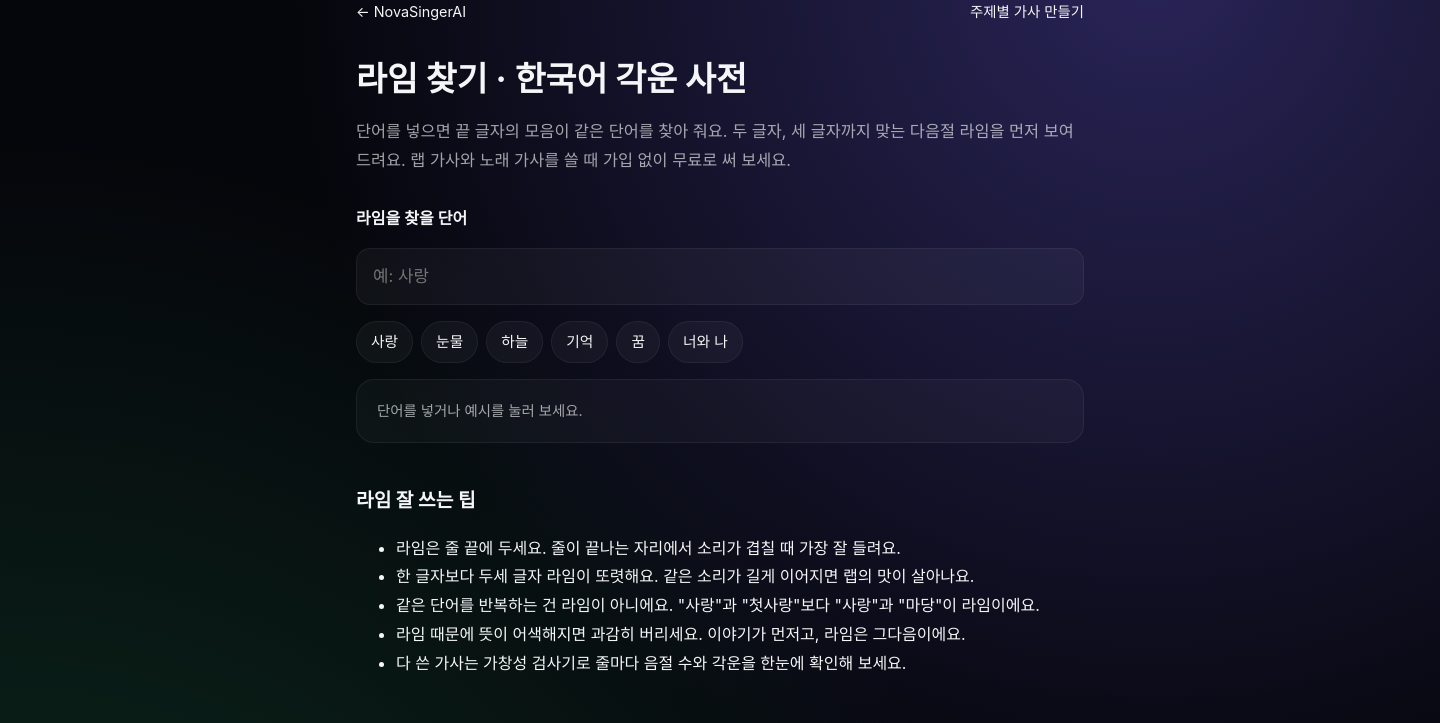
it: rhyme finder page › finds rhymes, collects picks and hands them to the trial chat
The image size is (1440, 723).
Type "사랑" into the field labelled "라임을 찾을 단어". click: (720, 276)
box: [356,248,1084,305]
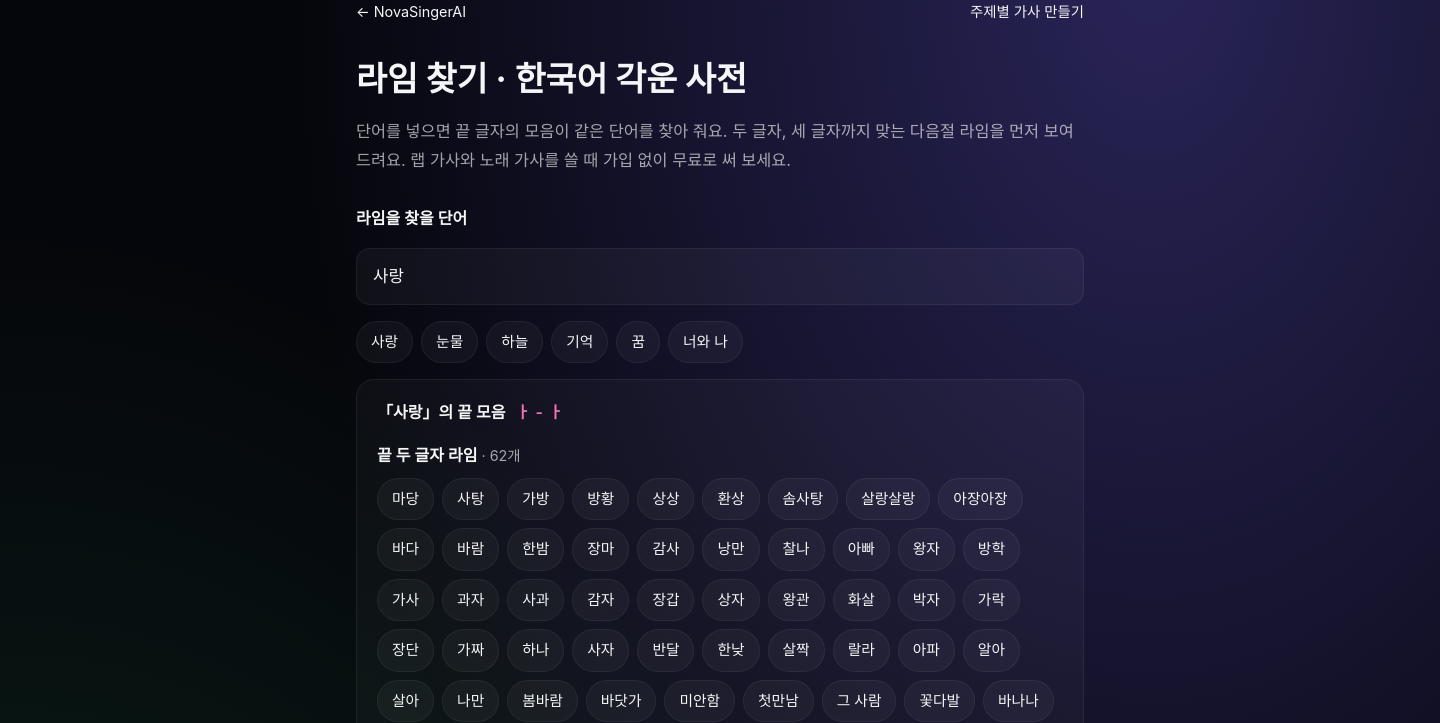
Click the button "마당". click: (406, 499)
box: [377,478,434,520]
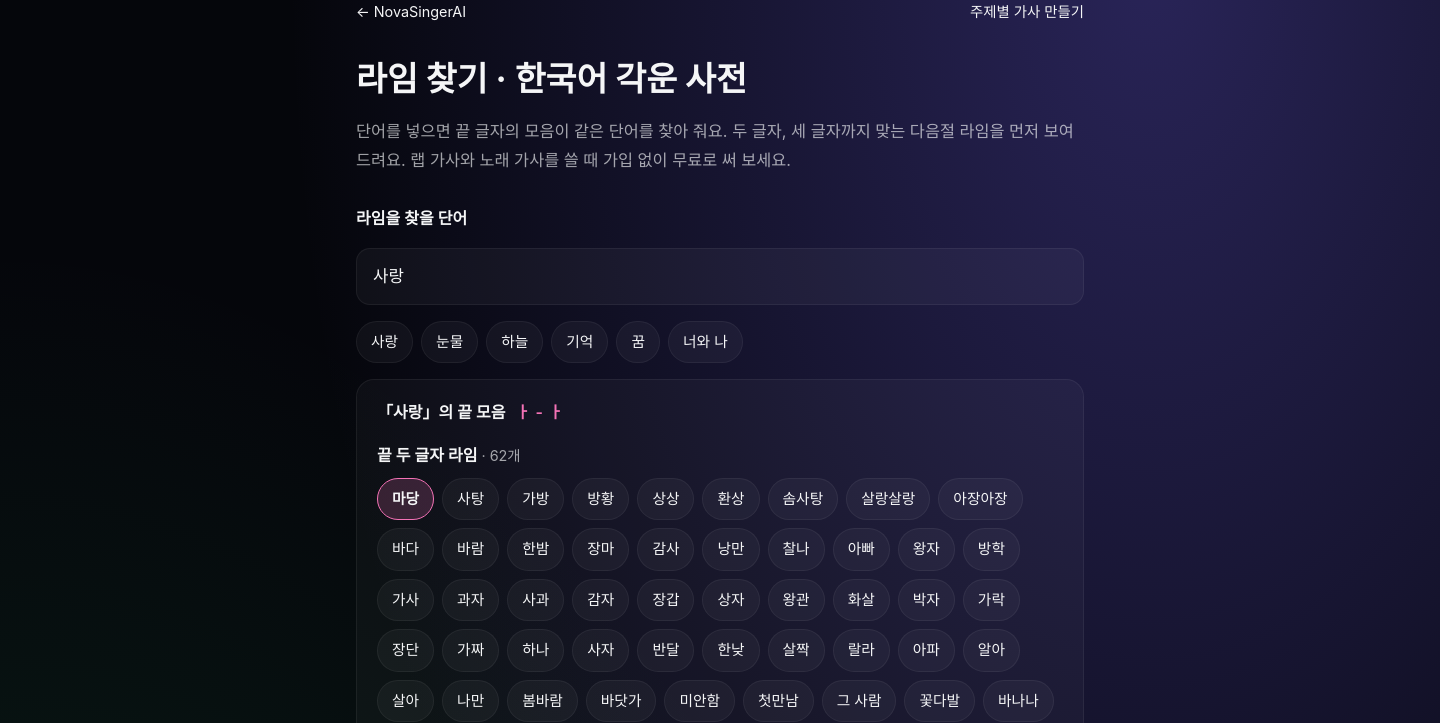
Click the button "사탕". click: (471, 499)
box: [442,478,499,520]
(page scrolled)
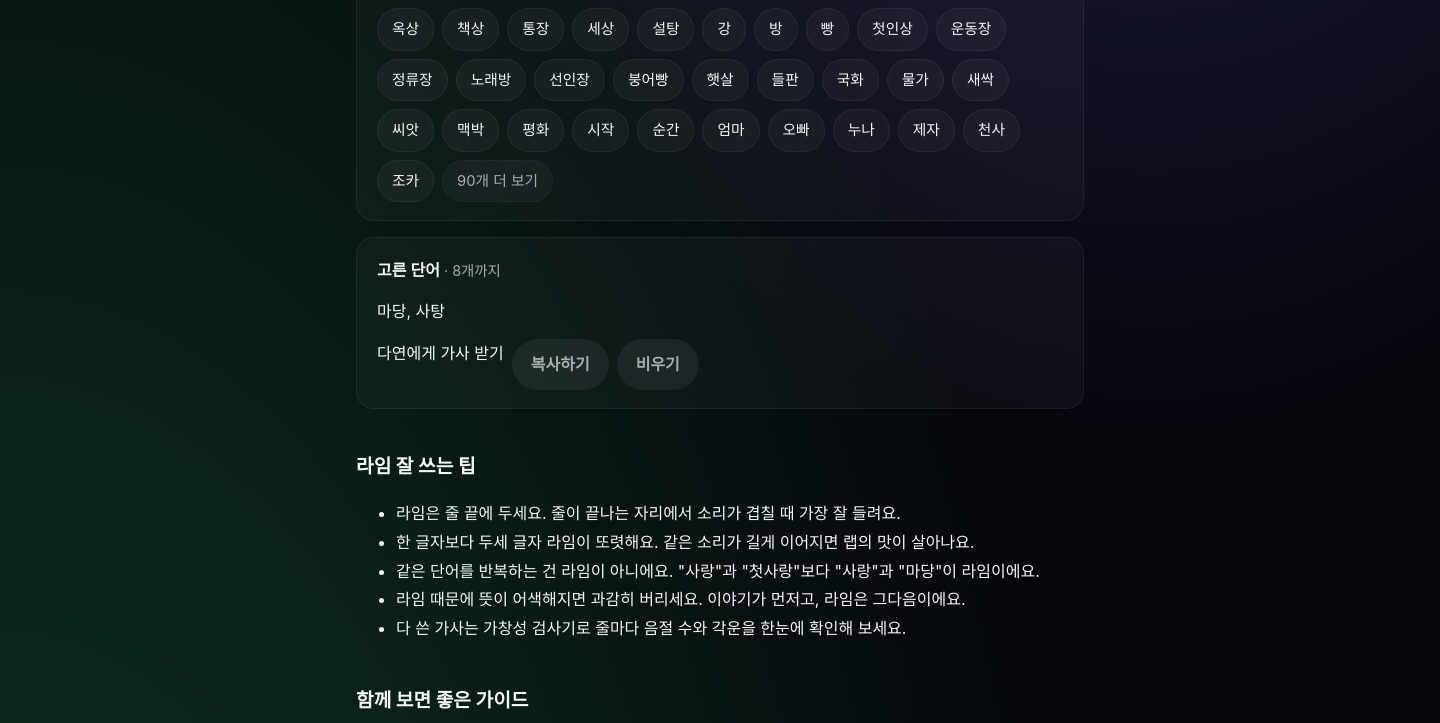
Expected: the text with test id "rhyme-picks" reads "마당, 사탕", [377,301,445,321]
Click the button "비우기". click: (658, 364)
box: [617,339,699,390]
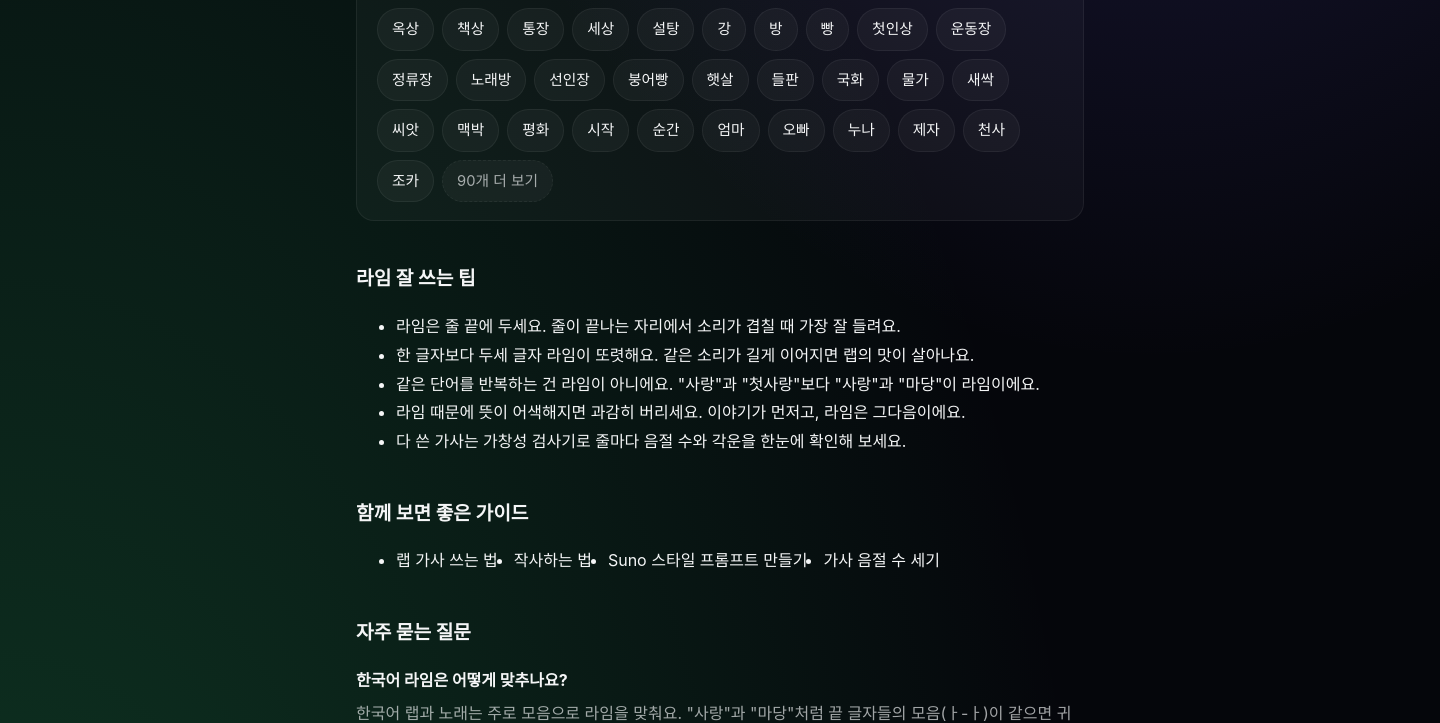
Expected: the text with test id "rhyme-picks" is gone
